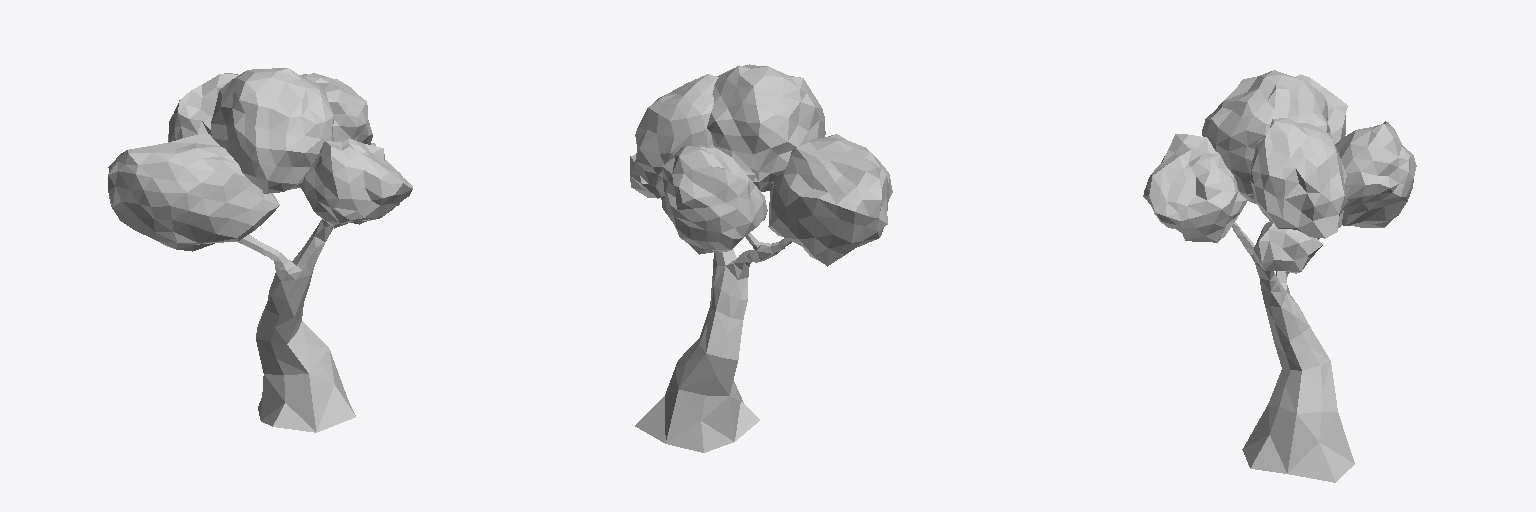
Rendered from common_tree_1_autumn.obj.
3 renders of one model, left to right at view 1: azimuth 30°, elevation 25°; view 2: azimuth 150°, elevation 25°; view 3: azimuth 270°, elevation 25°, orthographic.
Visible parts, largest first — view 1: common_tree_1_leaves.001, common_tree_1_leaves_dark.001, common_tree_1_trunk.001; view 2: common_tree_1_leaves_dark.001, common_tree_1_trunk.001, common_tree_1_leaves.001; view 3: common_tree_1_leaves_dark.001, common_tree_1_trunk.001, common_tree_1_leaves.001.
Boxes of the visible parts, x1,y1,x2,y2 form: common_tree_1_leaves.001: [108, 133, 412, 251]; common_tree_1_leaves_dark.001: [168, 68, 372, 193]; common_tree_1_trunk.001: [237, 219, 355, 432]; common_tree_1_leaves_dark.001: [631, 64, 825, 254]; common_tree_1_trunk.001: [635, 233, 791, 452]; common_tree_1_leaves.001: [630, 134, 892, 266]; common_tree_1_leaves_dark.001: [1202, 70, 1416, 238]; common_tree_1_trunk.001: [1232, 222, 1354, 482]; common_tree_1_leaves.001: [1143, 74, 1347, 273].
Bounding box in the file's own units: 4.72 × 6.26 × 4.25.